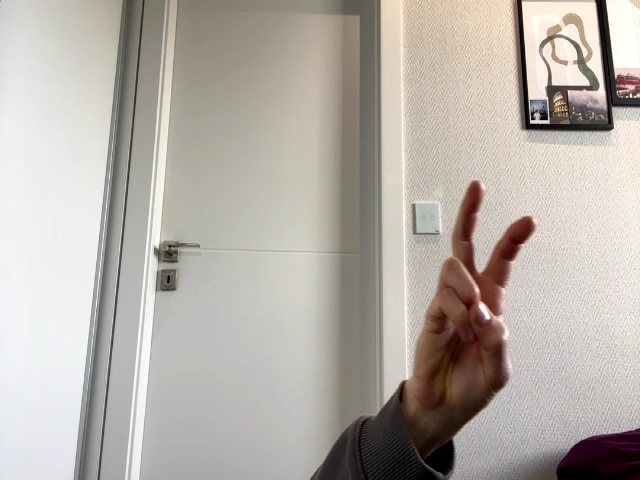H: (414, 180, 536, 419)
